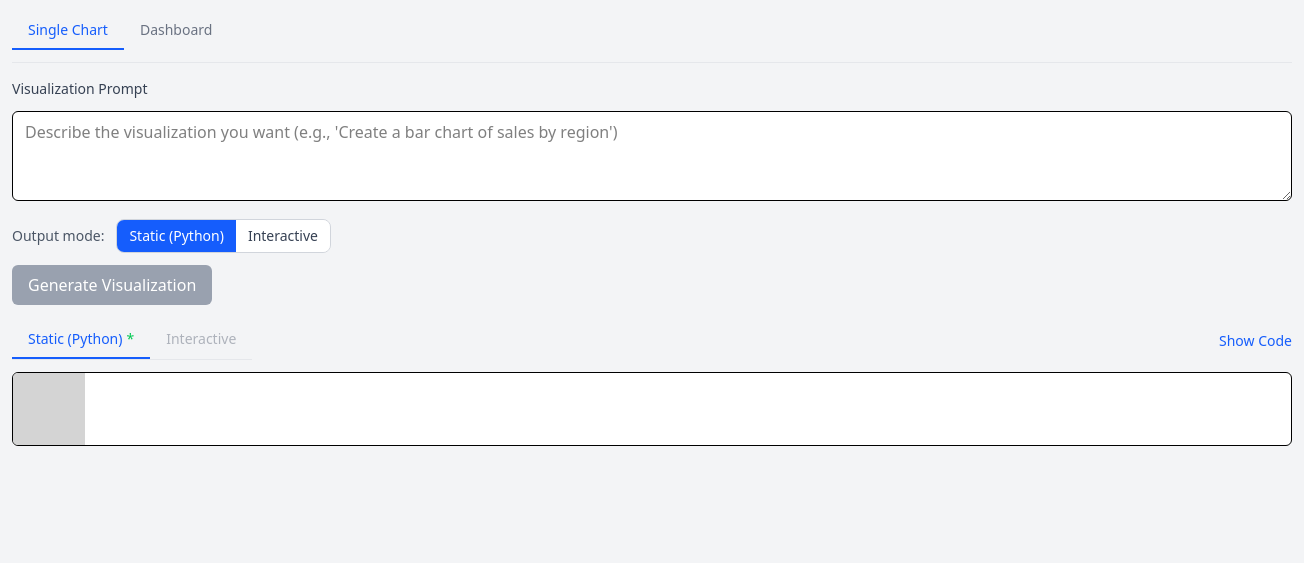
VisualizationPanel › shows code when Show Code is clicked
Expected: the text "plt.plot([1, 2, 3])" is not shown
# Click Show Code
Click the button "Show Code": (1256, 340) [1219,330,1292,350]
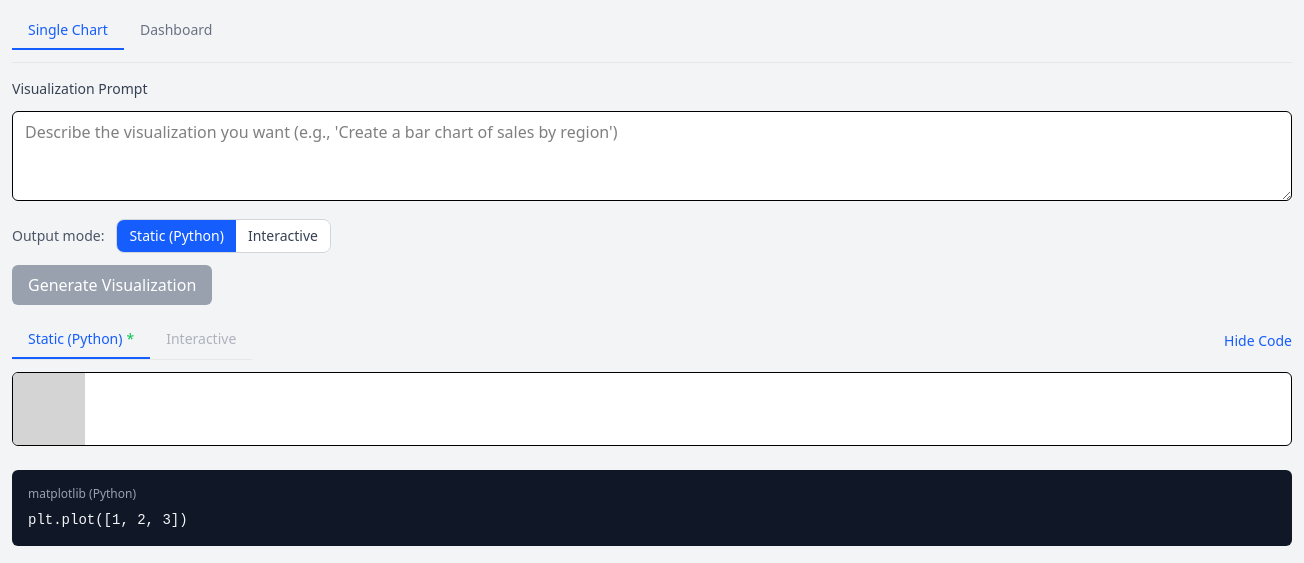
Result: the text "plt.plot([1, 2, 3])" is shown at [28,512,188,528]
